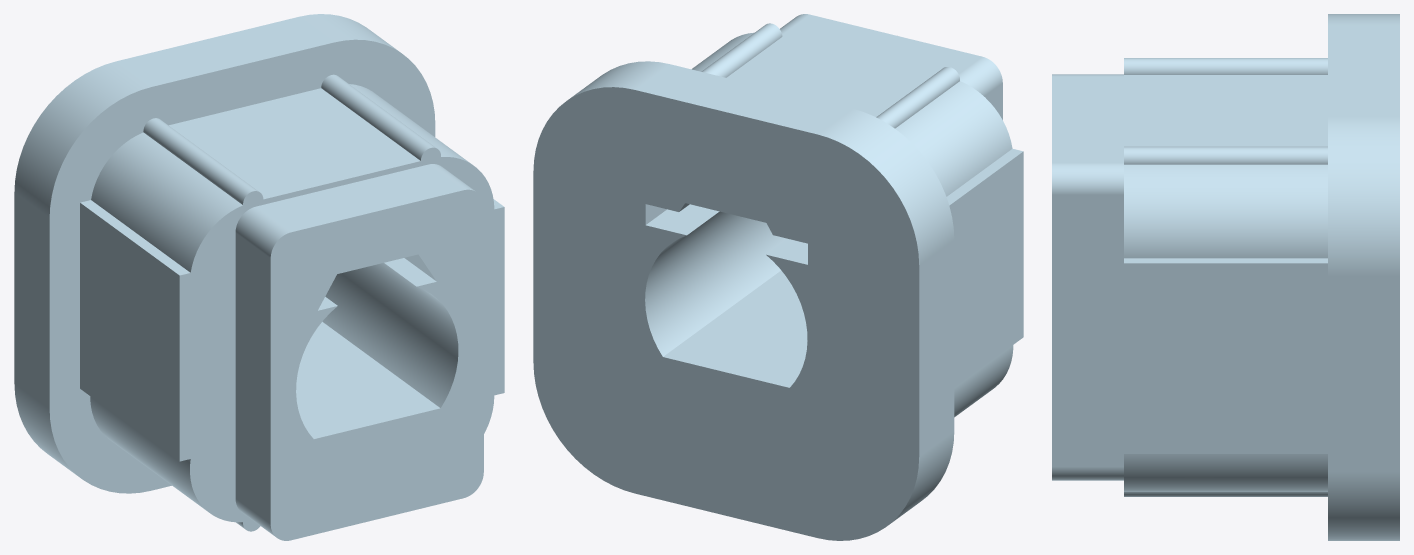
Rendered from Part Studio 1 - Part 1.gltf.
3 views of the same model, side by side, from view 1: azimuth 30°, elevation 25°; view 2: azimuth 150°, elevation 25°; view 3: azimuth 270°, elevation 25° (orthographic). The views are drawn at different scales.
Visible parts, largest first — view 1: Part 1; view 2: Part 1; view 3: Part 1.
Boxes of the visible parts, bbox=[...] form: Part 1: bbox=[14, 14, 504, 540]; Part 1: bbox=[533, 14, 1023, 540]; Part 1: bbox=[1052, 14, 1399, 540].
Bounding box in the file's own units: 0.019 × 0.019 × 0.0145.
